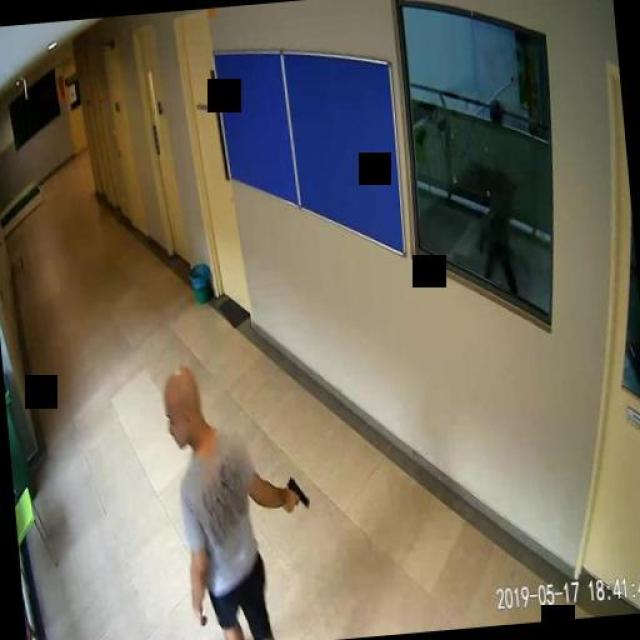gun: (285, 475, 307, 511)
